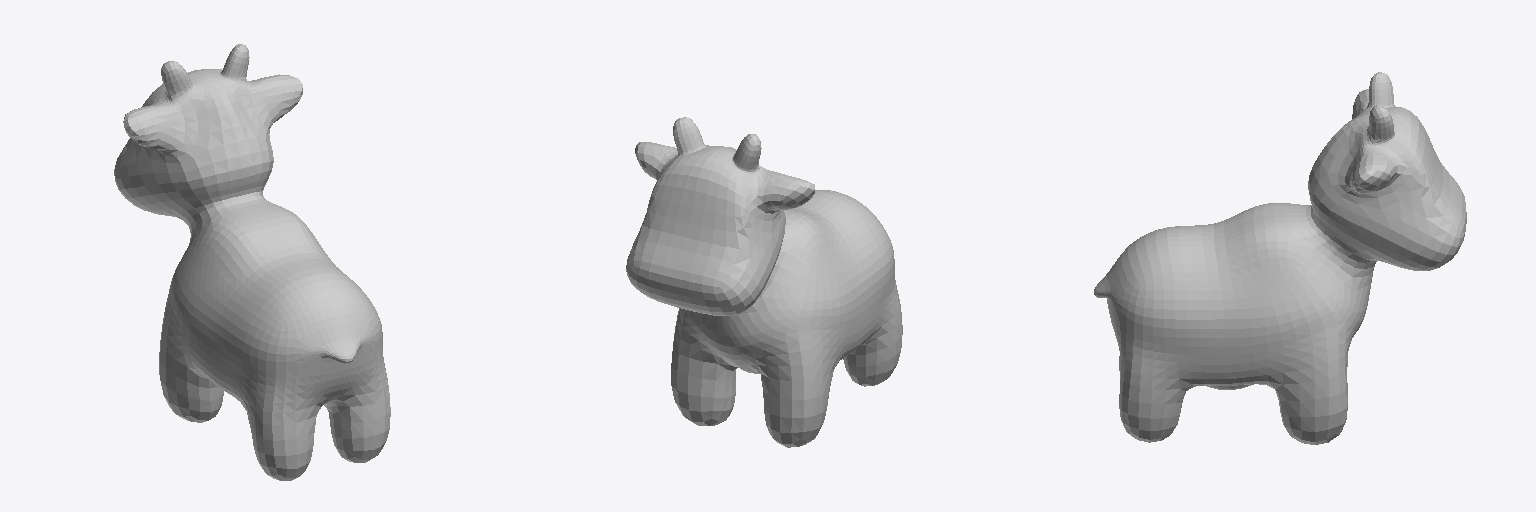
Rendered from spot_quadrangulated.obj.
3 views of the same model, side by side, from view 1: azimuth 30°, elevation 25°; view 2: azimuth 150°, elevation 25°; view 3: azimuth 270°, elevation 25° (orthographic).
Visible parts, largest first — view 1: objMesh; view 2: objMesh; view 3: objMesh.
Part boxes in pixels (x1,y1,x2,y2): objMesh: (114,44,390,480); objMesh: (626,117,902,447); objMesh: (1094,72,1466,444).
Size of the model in its own units: 0.9431 by 1.69 by 1.72.